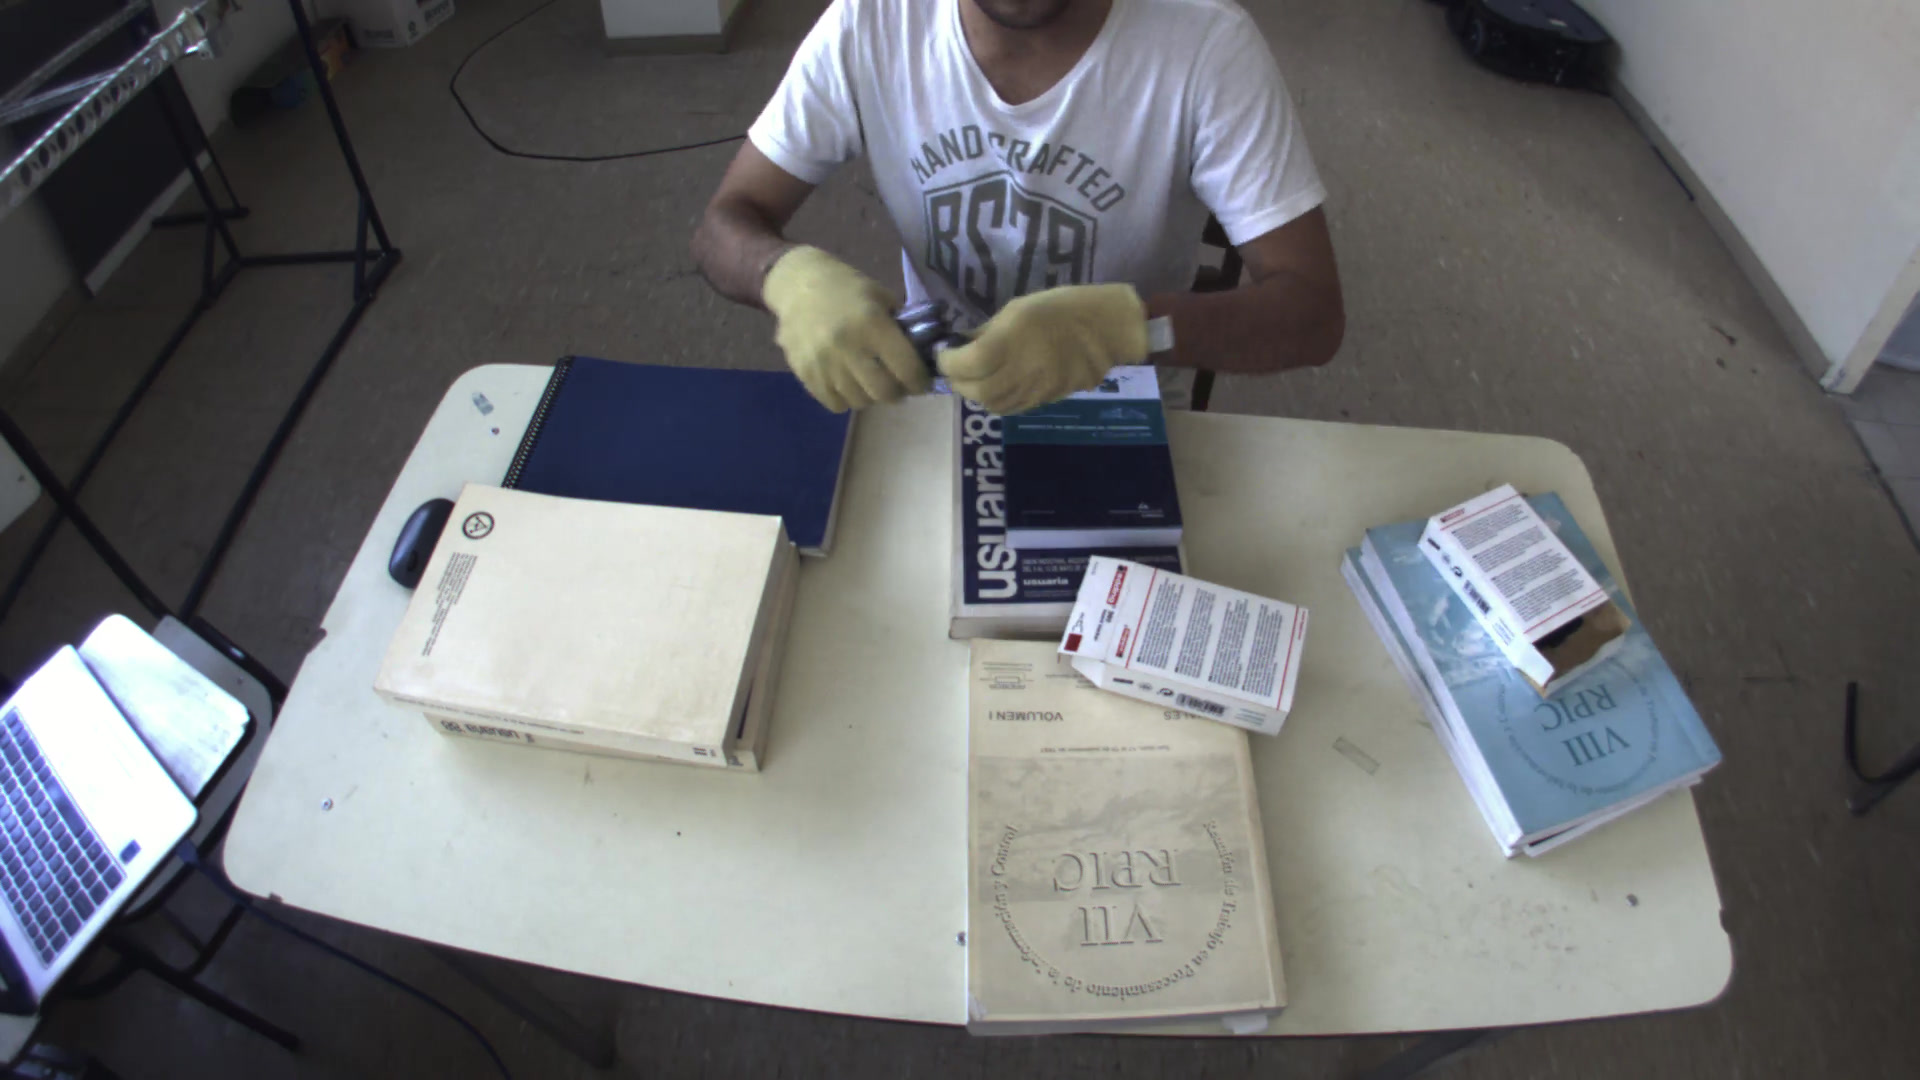hand: (938, 268, 1156, 418), (752, 236, 930, 419)
